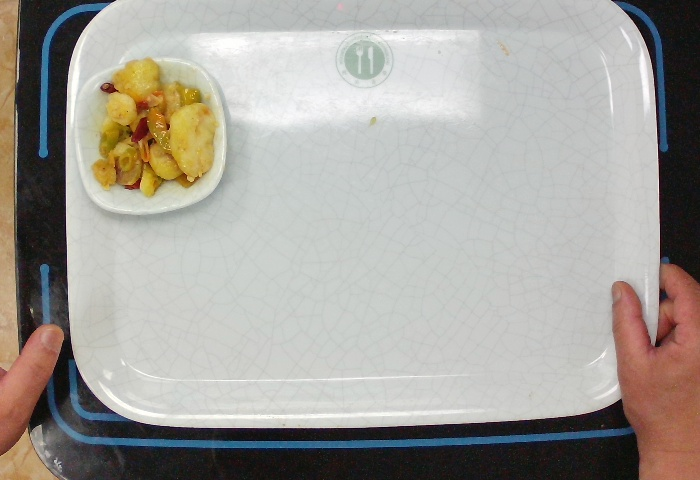JYsf-Si_Fang_Die: (69, 54, 232, 231)
